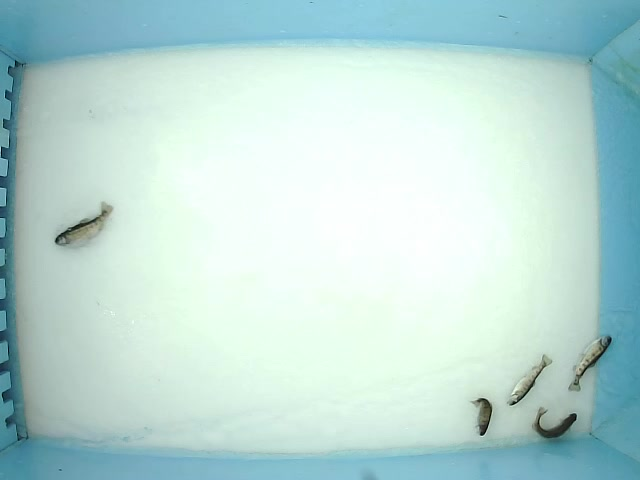fish: (53, 200, 115, 248), (567, 333, 613, 392), (505, 353, 553, 407), (532, 406, 578, 440), (468, 397, 493, 437)
